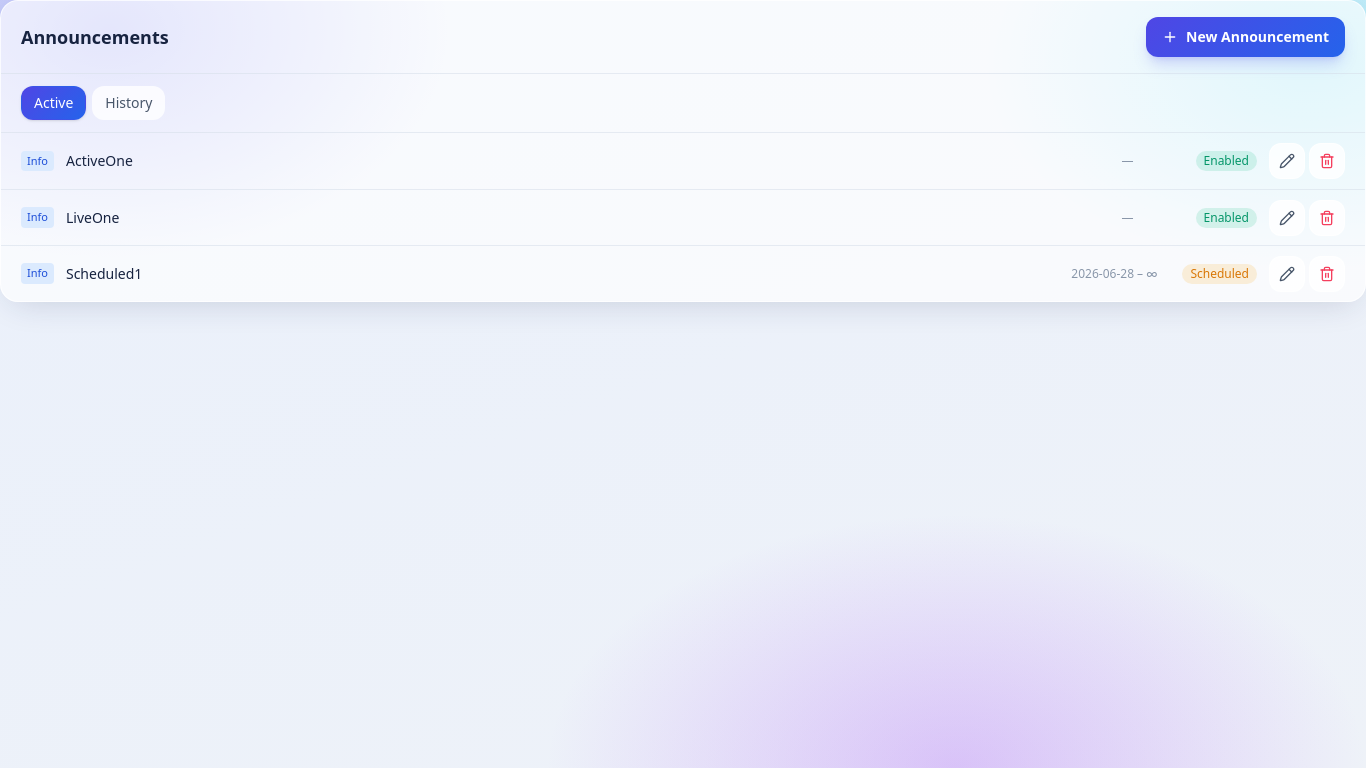
Test: AnnouncementsAdminView › 切到 History 标签:显示已关闭项 + 到期标记,隐藏 active 项
Click the tab with test id "ann-tab-history": (129, 103) [92, 86, 165, 120]
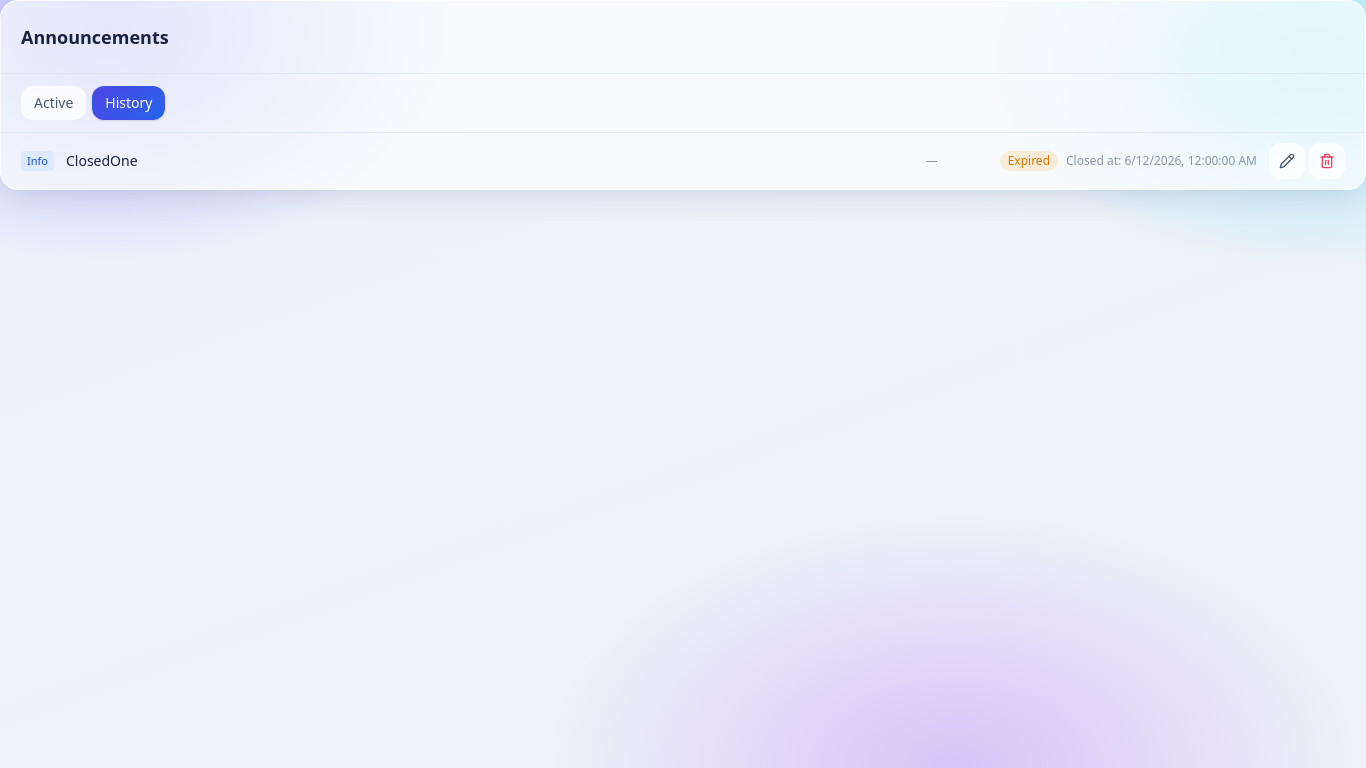
Result: the text "ClosedOne" is shown at [66, 151, 138, 170]
Result: the text "Expired" is shown at [1000, 151, 1058, 171]
Result: the text "ActiveOne" is gone
